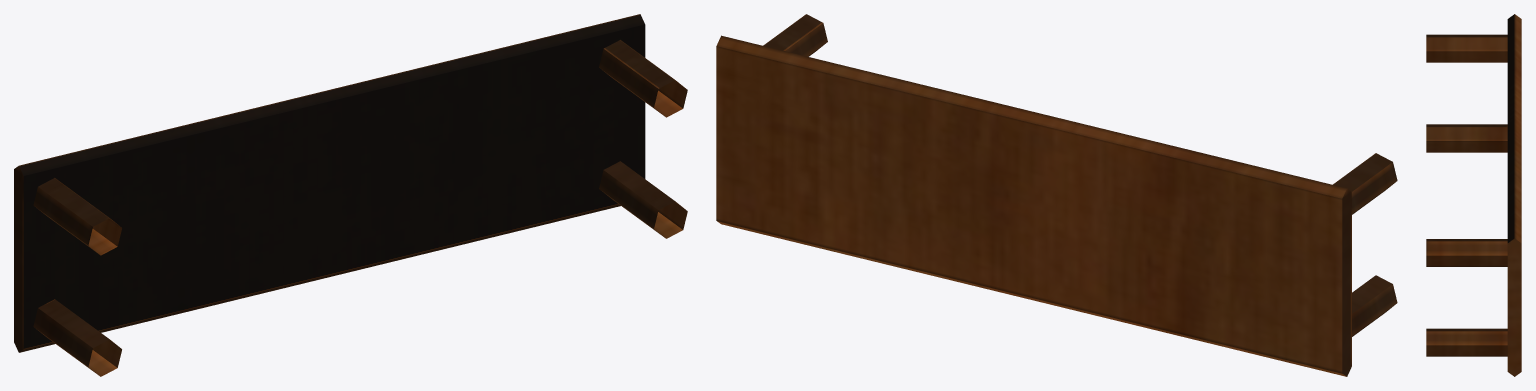
File: bench.dae
3 views of the same model, side by side, from view 1: azimuth 30°, elevation 25°; view 2: azimuth 150°, elevation 25°; view 3: azimuth 270°, elevation 25° (orthographic). The views are drawn at different scales.
Visible parts, largest first — view 1: Cube_001; view 2: Cube_001; view 3: Cube_001.
Part boxes in pixels (box(x1,y1,x2,y2)): Cube_001: box(14, 14, 687, 376); Cube_001: box(716, 14, 1397, 376); Cube_001: box(1426, 14, 1521, 376).
Size of the model in its own units: 3 by 0.54 by 0.864.
1 material, 1 textured.
